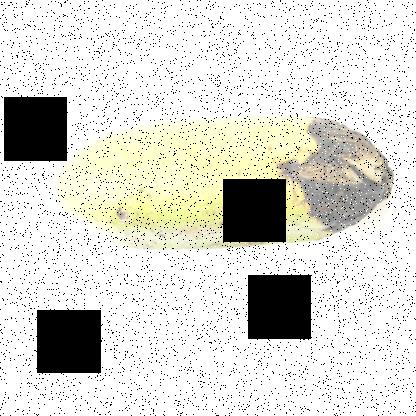rotten: (252, 103, 416, 251)
unripe: (53, 102, 293, 270)
